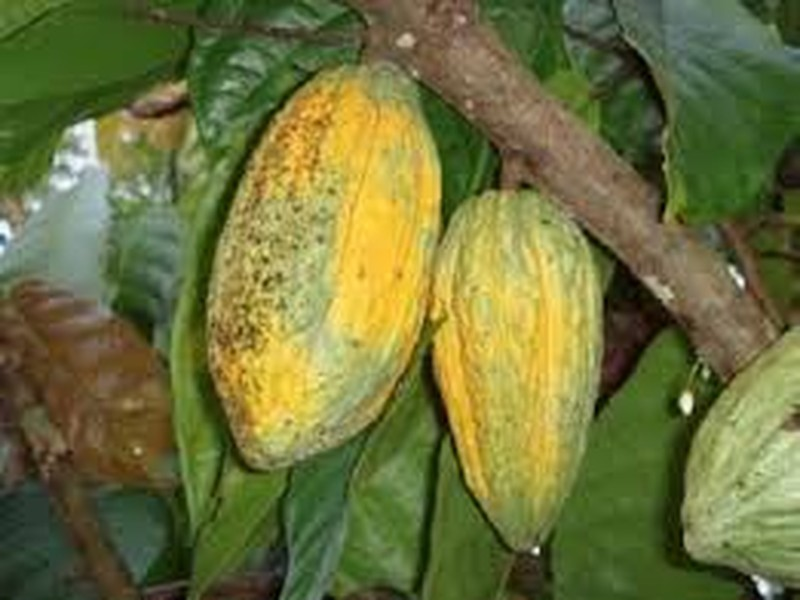Cacaopod: (205, 59, 442, 472)
